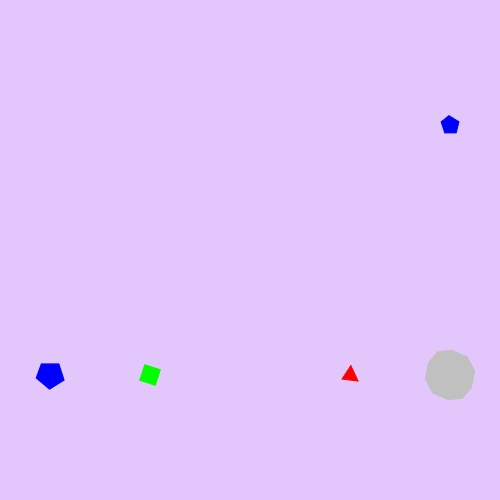decagon: (420, 348, 480, 403)
pentagon: (32, 357, 68, 393), (436, 111, 464, 139)
quadrilateral: (134, 359, 166, 391)
triangle: (338, 362, 363, 388)
